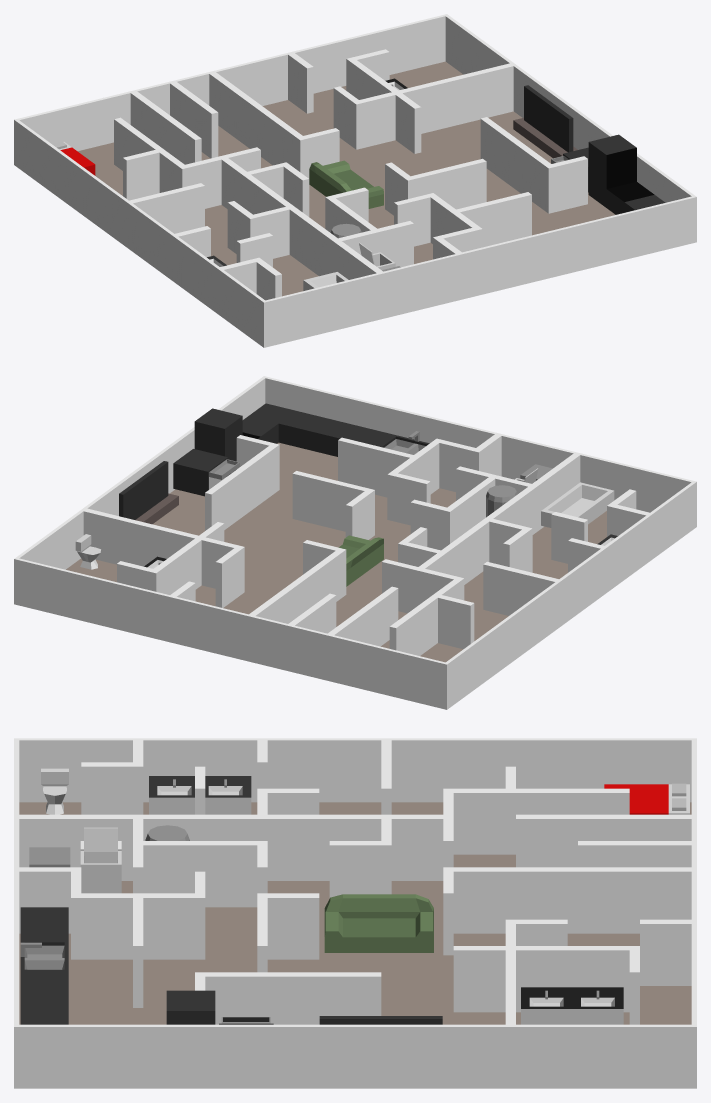
File: watermaze.fbx
3 renders of one model, top to bottom at view 1: azimuth 30°, elevation 25°; view 2: azimuth 150°, elevation 25°; view 3: azimuth 270°, elevation 25°, orthographic. The views are drawn at different scales.
Visible parts, largest first — view 1: Grid; view 2: Grid; view 3: Grid.
Boxes of the visible parts, x1=… form: Grid: x1=14, y1=14, x2=696, y2=347; Grid: x1=14, y1=376, x2=696, y2=709; Grid: x1=14, y1=738, x2=696, y2=1088.
Size of the model in its own units: 2000 by 242 by 2000.
